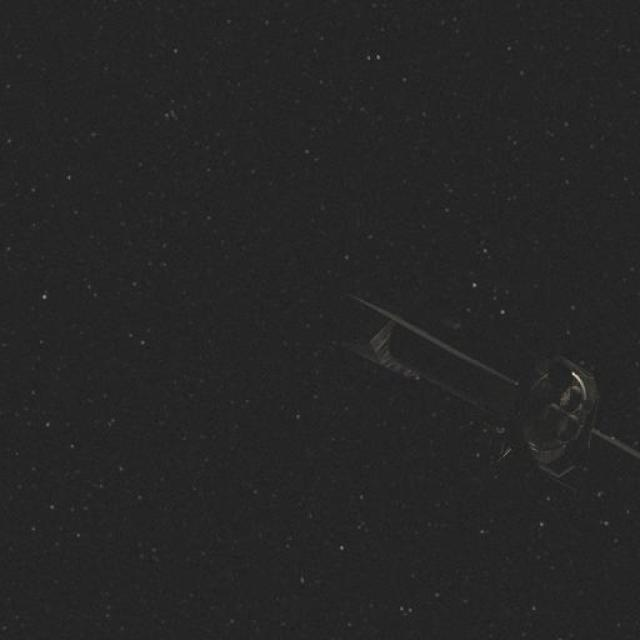xmm_newton: (288, 222, 634, 518)
